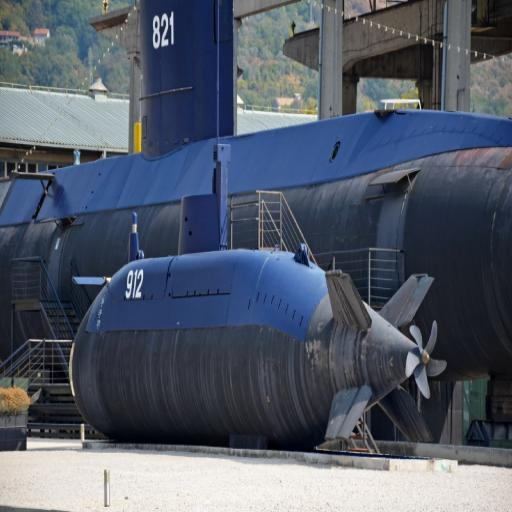submarine: (11, 2, 509, 378), (68, 248, 438, 450)
